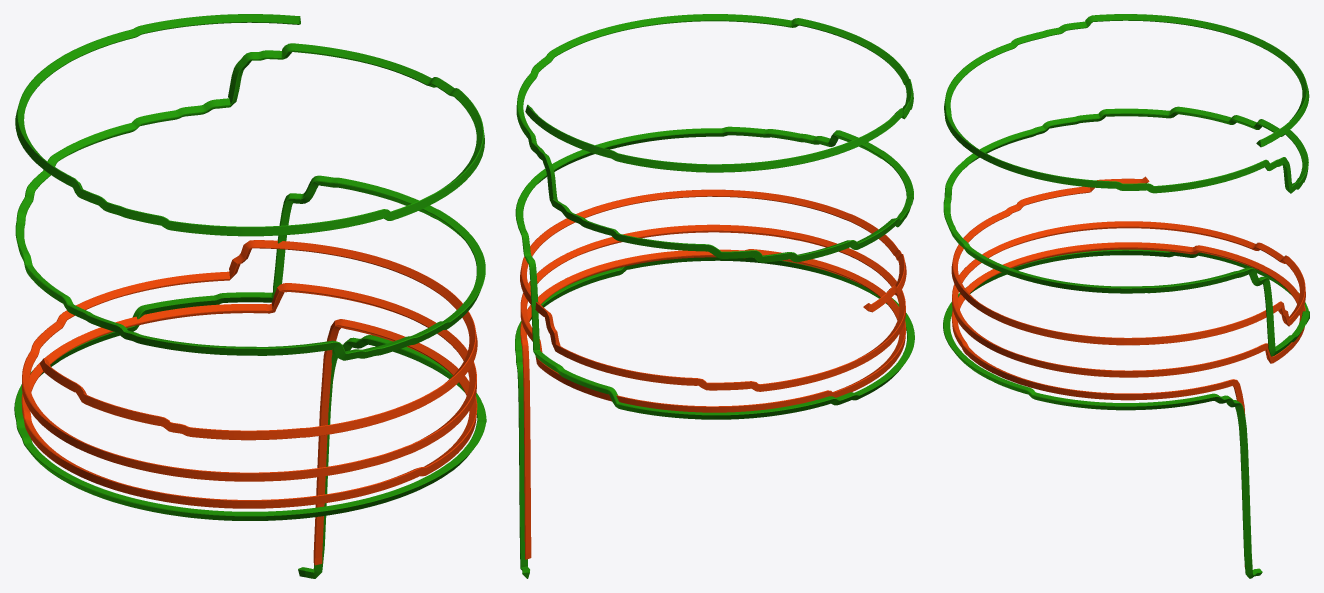
File: vis_04.fbx
3 renders of one model, left to right at view 1: azimuth 30°, elevation 25°; view 2: azimuth 150°, elevation 25°; view 3: azimuth 270°, elevation 25°, orthographic. The views are drawn at different scales.
Parts seen in each view (by area): view 1: triangle, triangle1; view 2: triangle, triangle1; view 3: triangle, triangle1.
Part boxes in pixels (x1,y1,x2,y2): triangle: (14, 14, 486, 578); triangle1: (21, 240, 477, 565); triangle: (515, 14, 914, 578); triangle1: (520, 189, 906, 559); triangle: (943, 14, 1309, 578); triangle1: (951, 176, 1305, 566).
Size of what is drawn, in the model's own units: 204 by 267 by 204.
